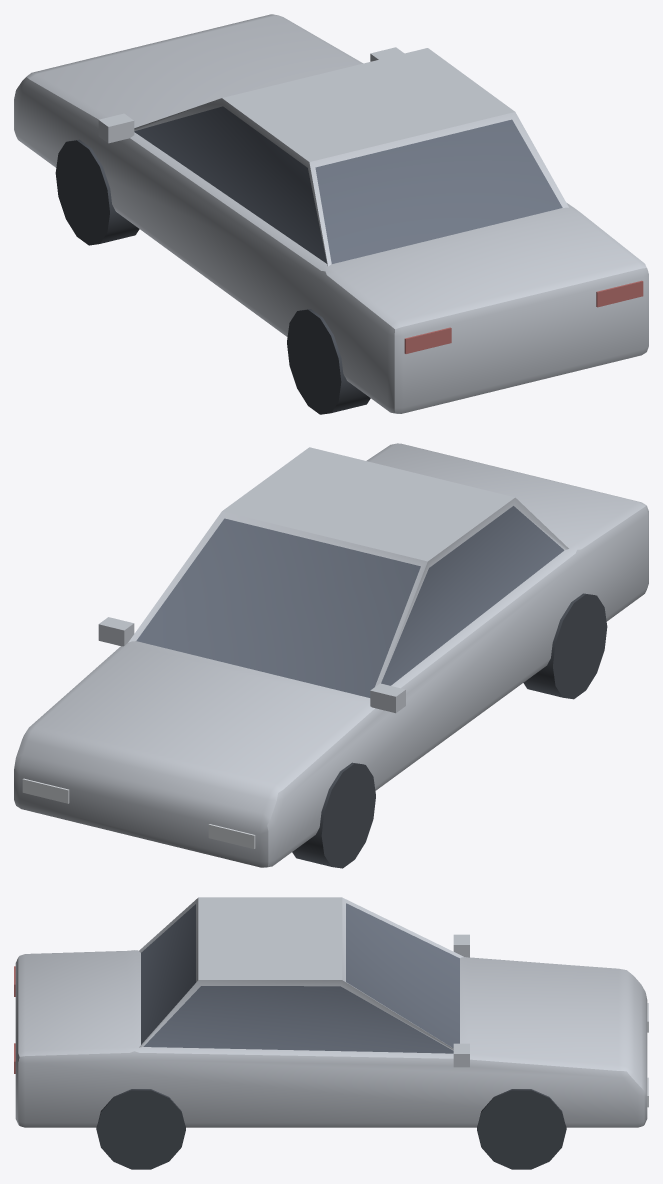
File: traffic_sedan.glb
3 renders of one model, top to bottom at view 1: azimuth 30°, elevation 25°; view 2: azimuth 150°, elevation 25°; view 3: azimuth 270°, elevation 25°, orthographic. The views are drawn at different scales.
Visible parts, largest first — view 1: Body; view 2: Body; view 3: Body.
Part boxes in pixels (x1,y1,x2,y2): Body: [14, 14, 648, 414]; Body: [14, 443, 648, 868]; Body: [14, 897, 648, 1169].
Size of the model in its own units: 2.08 by 1.44 by 4.67.
